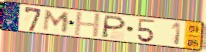1: (170, 21, 183, 46)
5: (136, 18, 156, 44)
7: (24, 5, 43, 32)
H: (73, 12, 103, 38)
M: (42, 9, 72, 34)
P: (100, 14, 128, 40)
